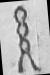V28: (2, 0, 49, 74)
